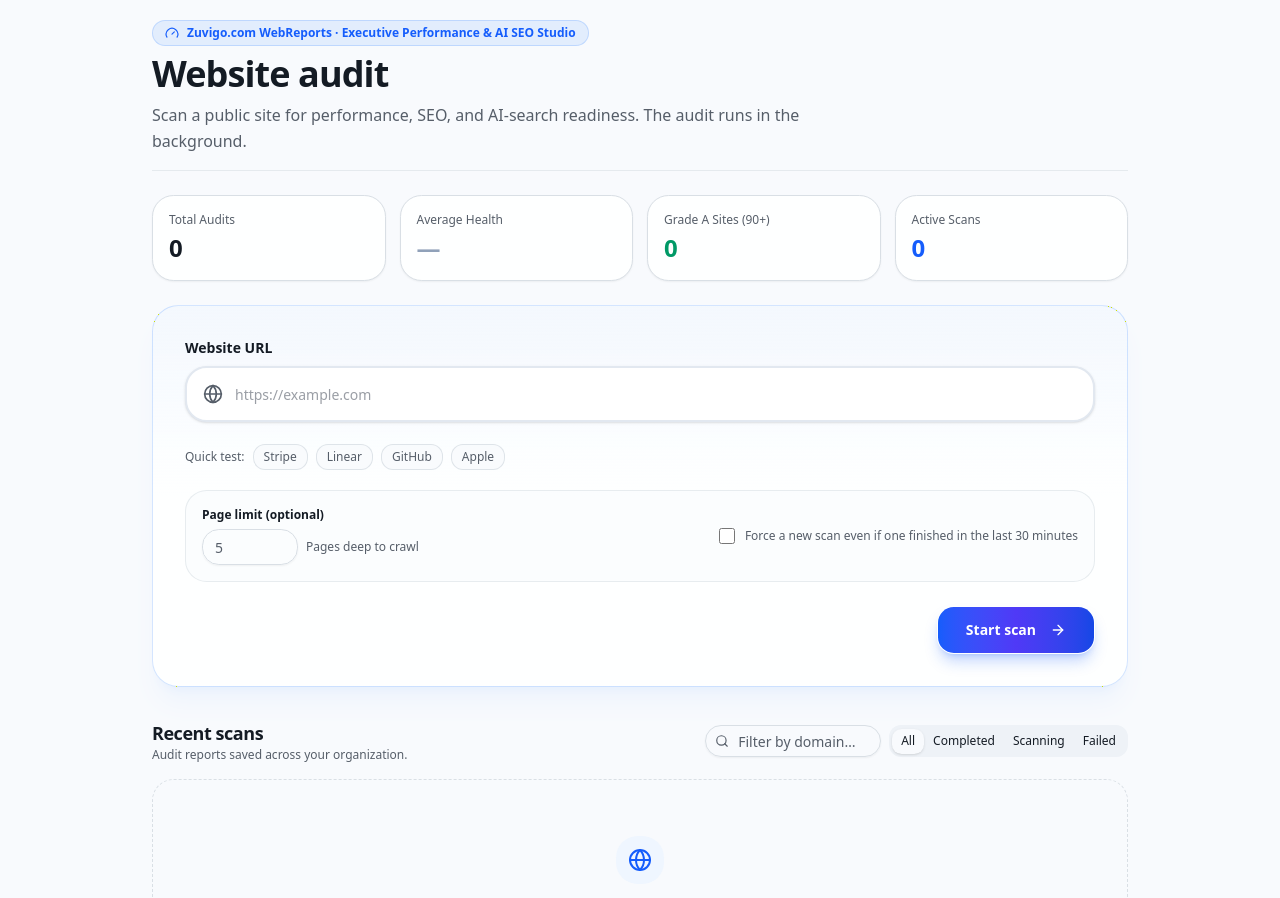
website audit home › validates the URL before submitting
Click the button "Start scan": x=1016, y=630 x1=937 y1=606 x2=1095 y2=654
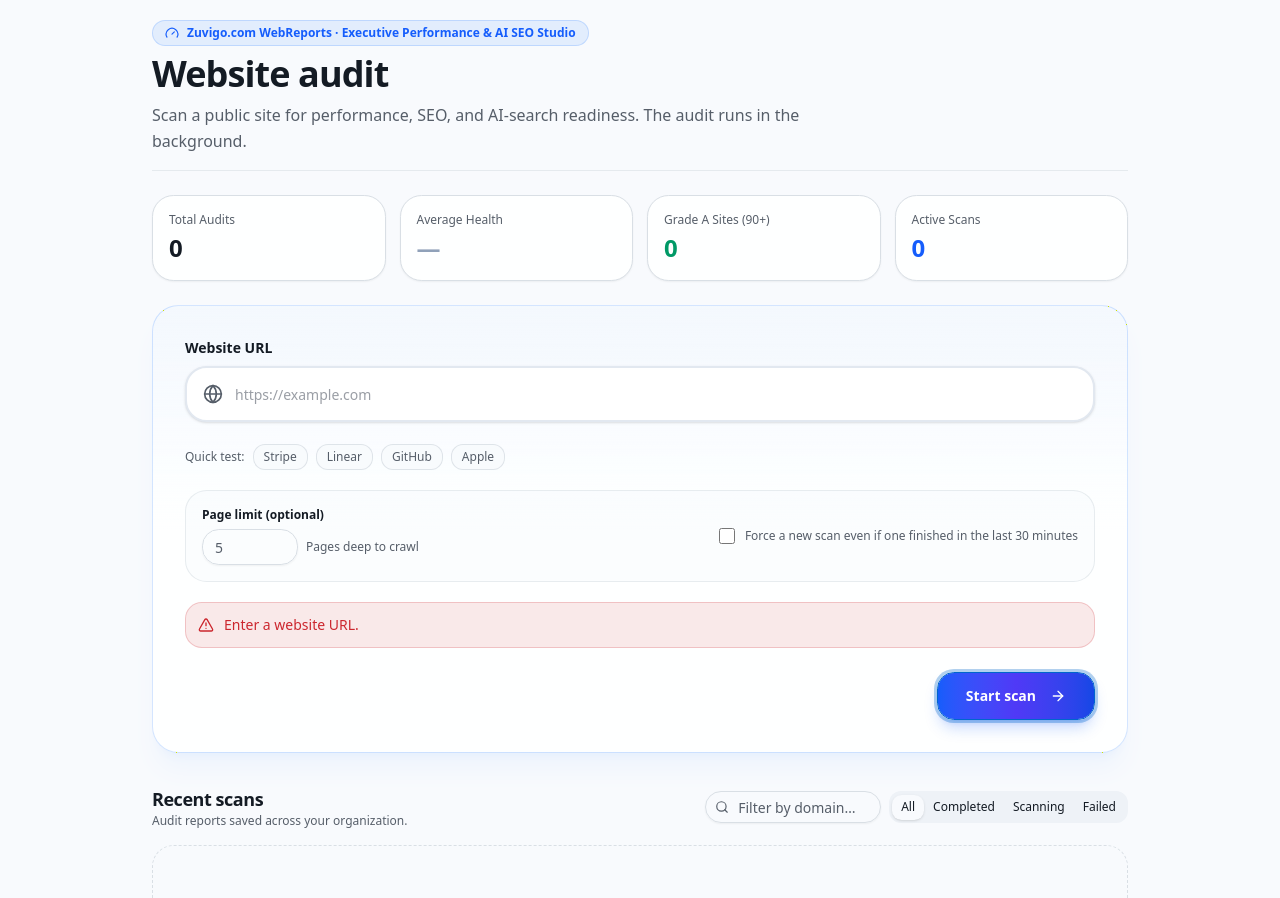
Check: the message reads "Enter a website URL.", box x1=224 y1=615 x2=359 y2=634
In the field labelled "Website URL": x=640, y=394 x1=187 y1=368 x2=1093 y2=420, type "ftp://example.com"
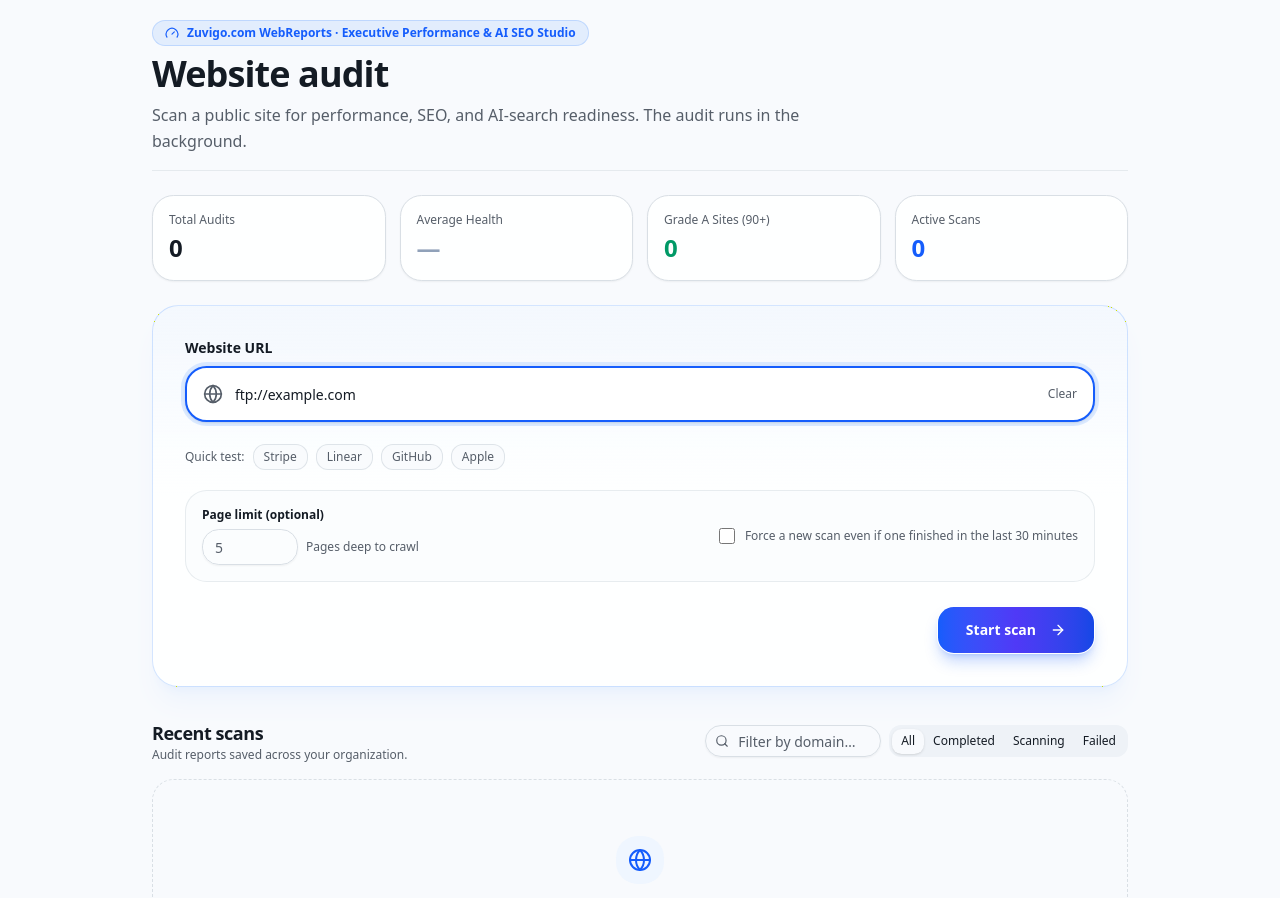
Click the button "Start scan": x=1016, y=630 x1=937 y1=606 x2=1095 y2=654
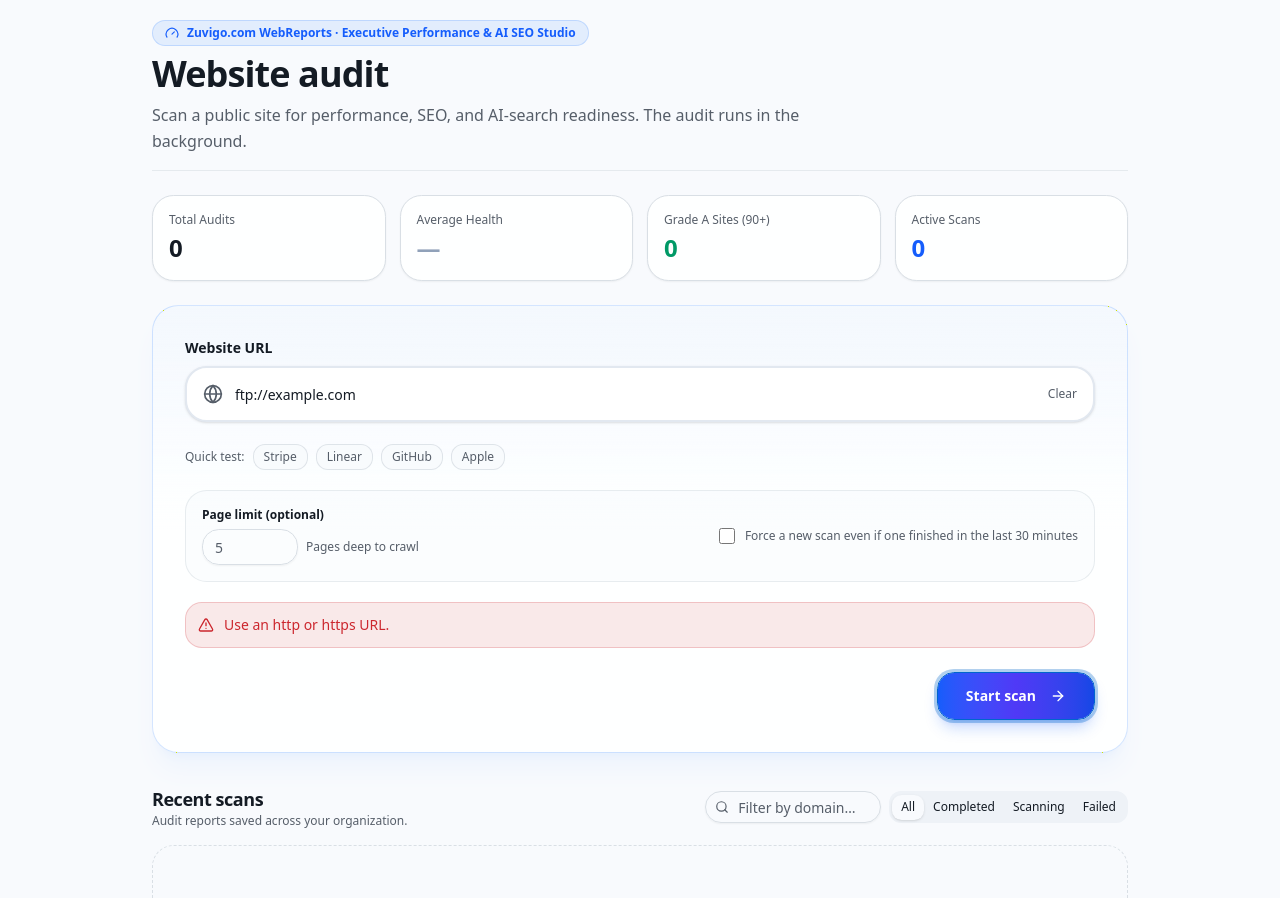
Check: the message reads "Use an http or https URL.", box x1=224 y1=615 x2=389 y2=634
